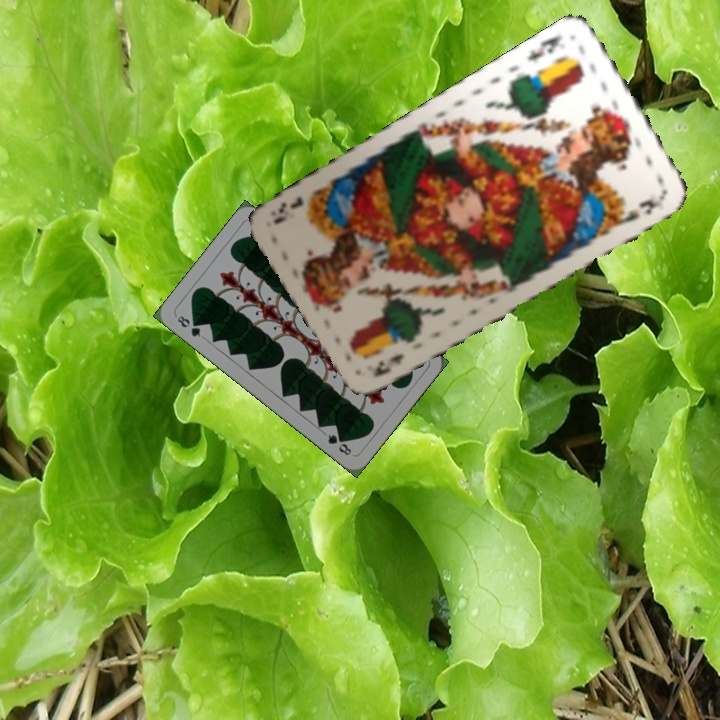EK: (523, 31, 566, 64), (369, 349, 406, 380)
G8: (173, 311, 203, 340)
